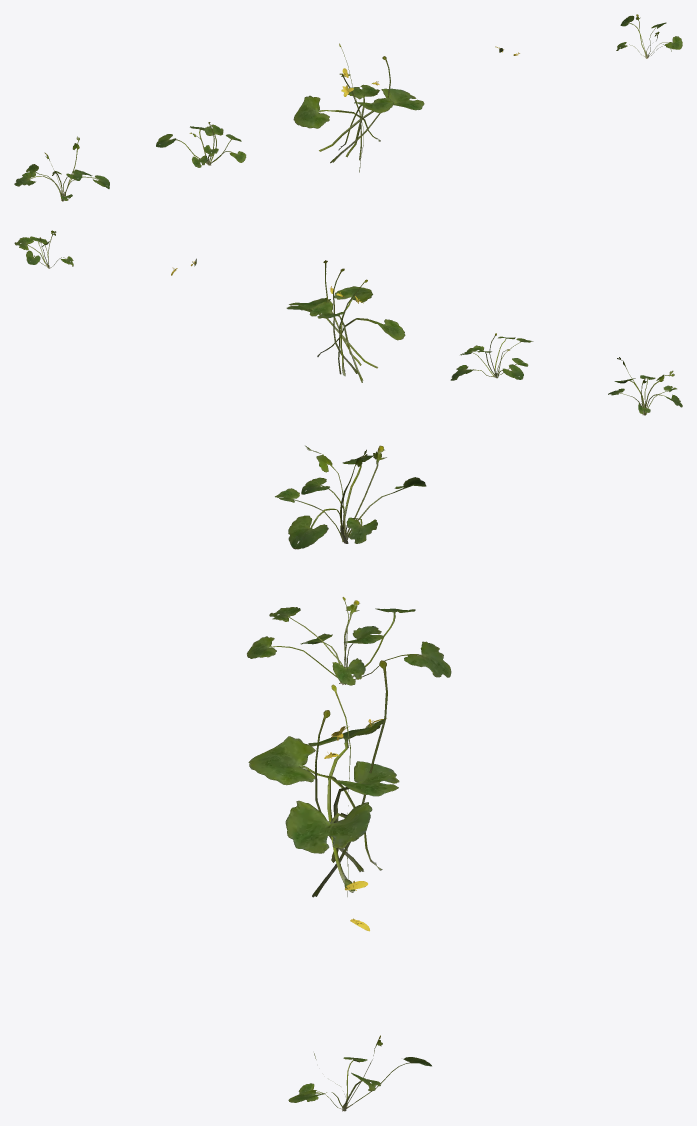
The model's file is celandine_01.glb.
3 views of the same model, one above another, from view 1: azimuth 30°, elevation 25°; view 2: azimuth 150°, elevation 25°; view 3: azimuth 270°, elevation 25° (orthographic). The views are drawn at different scales.
Visible parts, largest first — view 1: celandine_01_c_LOD0, celandine_01_b_LOD0, celandine_01_a_LOD0, celandine_01_e_LOD0; view 2: celandine_01_c_LOD0, celandine_01_b_LOD0, celandine_01_a_LOD0, celandine_01_e_LOD0; view 3: celandine_01_c_LOD0, celandine_01_b_LOD0, celandine_01_a_LOD0, celandine_01_e_LOD0.
Part boxes in pixels (bbox=[...]): celandine_01_c_LOD0: bbox=[293, 43, 424, 172]; celandine_01_b_LOD0: bbox=[156, 122, 246, 167]; celandine_01_a_LOD0: bbox=[14, 136, 109, 201]; celandine_01_e_LOD0: bbox=[616, 14, 682, 58]; celandine_01_c_LOD0: bbox=[286, 260, 405, 382]; celandine_01_b_LOD0: bbox=[450, 333, 533, 380]; celandine_01_a_LOD0: bbox=[608, 357, 682, 415]; celandine_01_e_LOD0: bbox=[14, 230, 73, 268]; celandine_01_c_LOD0: bbox=[248, 660, 399, 897]; celandine_01_b_LOD0: bbox=[247, 597, 451, 685]; celandine_01_a_LOD0: bbox=[275, 445, 426, 549]; celandine_01_e_LOD0: bbox=[288, 1035, 431, 1111].
Size of the model in its own units: 2.24 by 0.3886 by 0.3072.
Materials: 1 (1 with a texture image).
